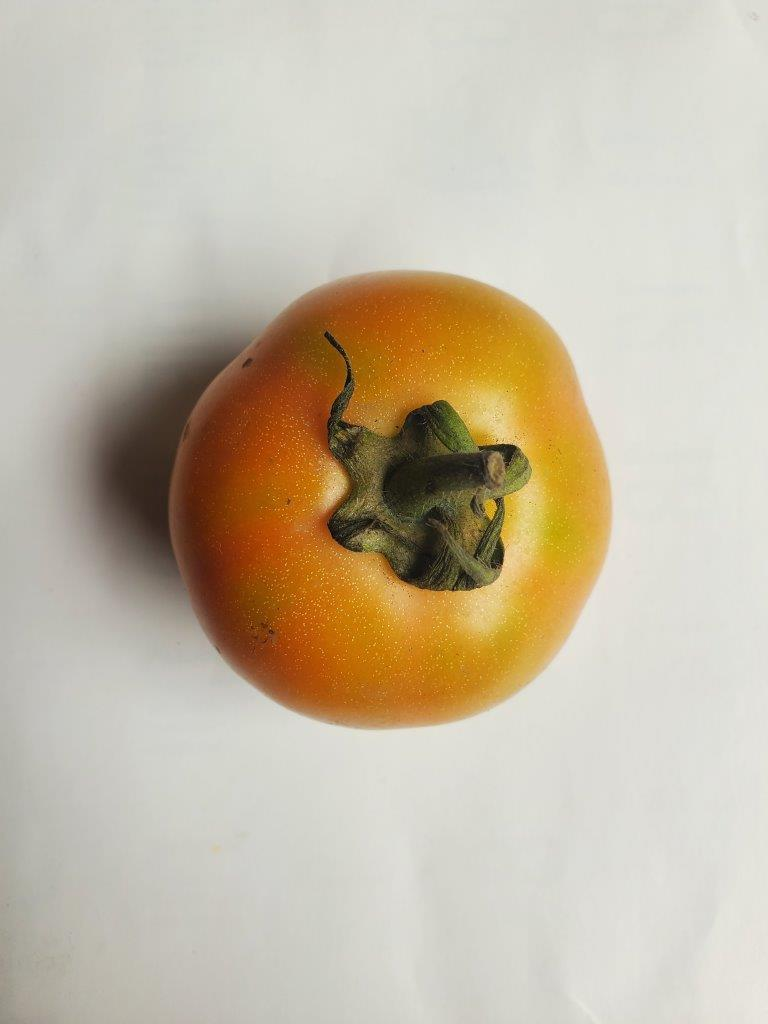tomato: (170, 272, 609, 726)
